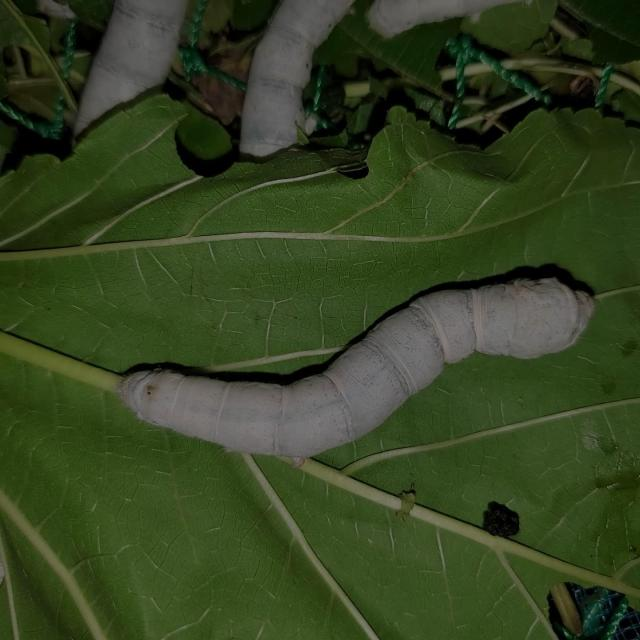Healthy: (83, 248, 621, 496)
